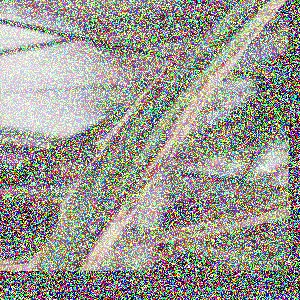Leaf_Blast: (60, 149, 142, 271)
